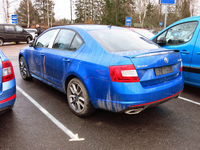car: (18, 23, 183, 118)
